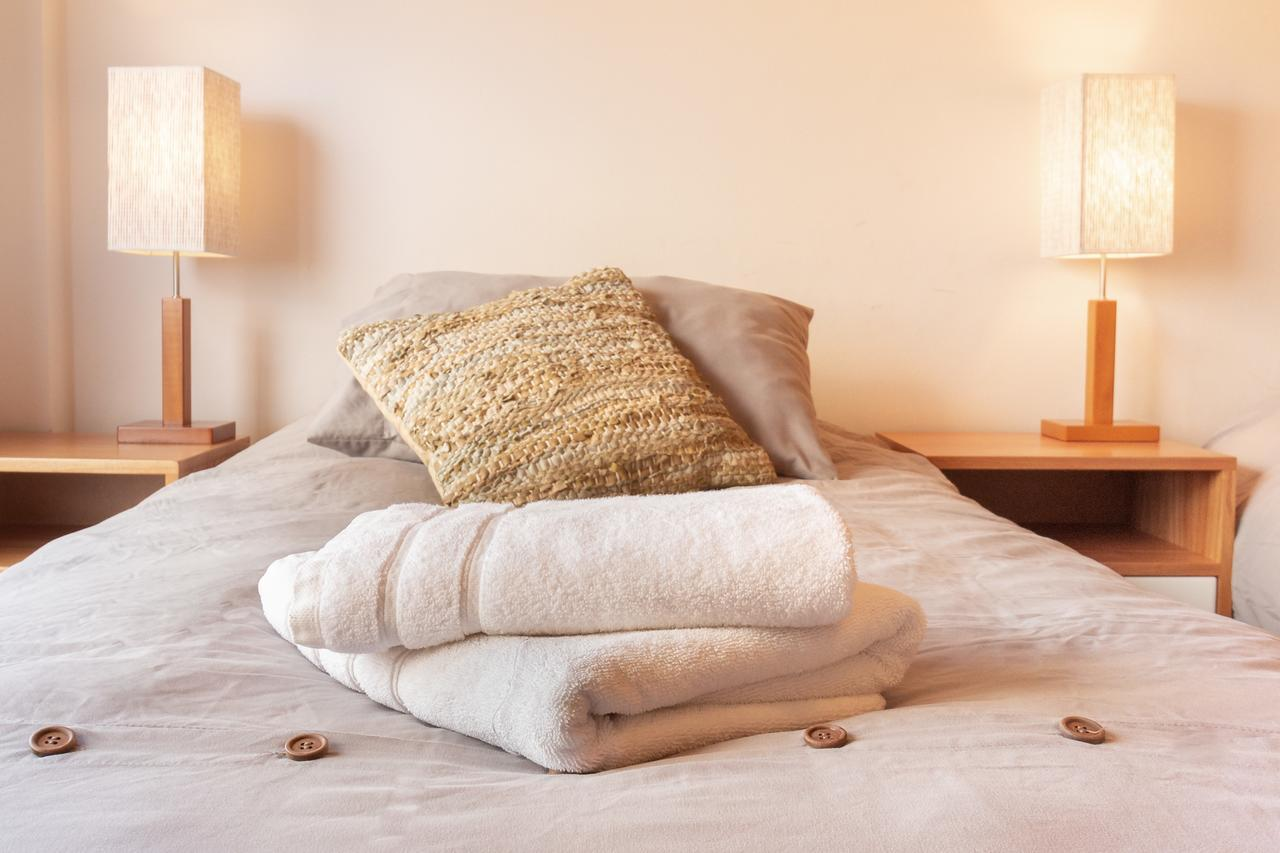bed: (162, 292, 938, 853)
